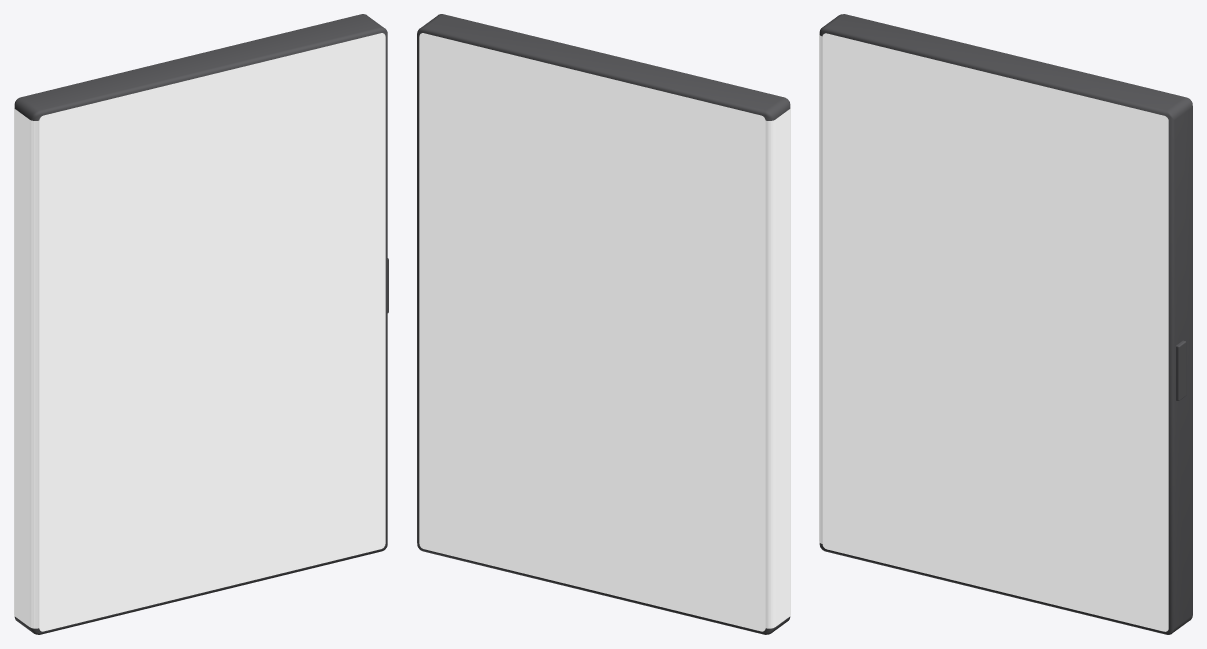
The model's file is dvd_case_hero.glb.
The picture shows the model from 3 angles, left to right: view 1: azimuth 30°, elevation 25°; view 2: azimuth 150°, elevation 25°; view 3: azimuth 330°, elevation 25°; orthographic projection.
Visible parts, largest first — view 1: gloss-front, cover-spine, case-lid, case-base; view 2: gloss-back, cover-spine, case-base, case-lid; view 3: gloss-front, case-lid, case-base, cover-spine.
Boxes of the visible parts, x1,y1,x2,y2 form: gloss-front: [39, 33, 385, 631]; cover-spine: [14, 108, 39, 628]; case-lid: [22, 21, 388, 634]; case-base: [14, 14, 375, 626]; gloss-back: [419, 33, 765, 631]; cover-spine: [765, 108, 790, 628]; case-base: [417, 21, 782, 634]; case-lid: [429, 14, 790, 626]; gloss-front: [822, 33, 1168, 631]; case-lid: [819, 20, 1186, 634]; case-base: [831, 14, 1192, 625]; cover-spine: [819, 34, 822, 543].
Bounding box in the file's own units: 0.1363 × 0.19 × 0.0144.
7 materials, 5 textured.
